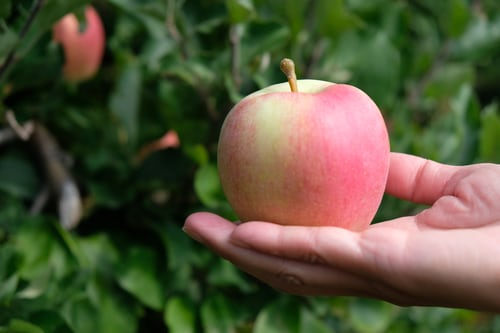apple: (217, 57, 392, 237)
